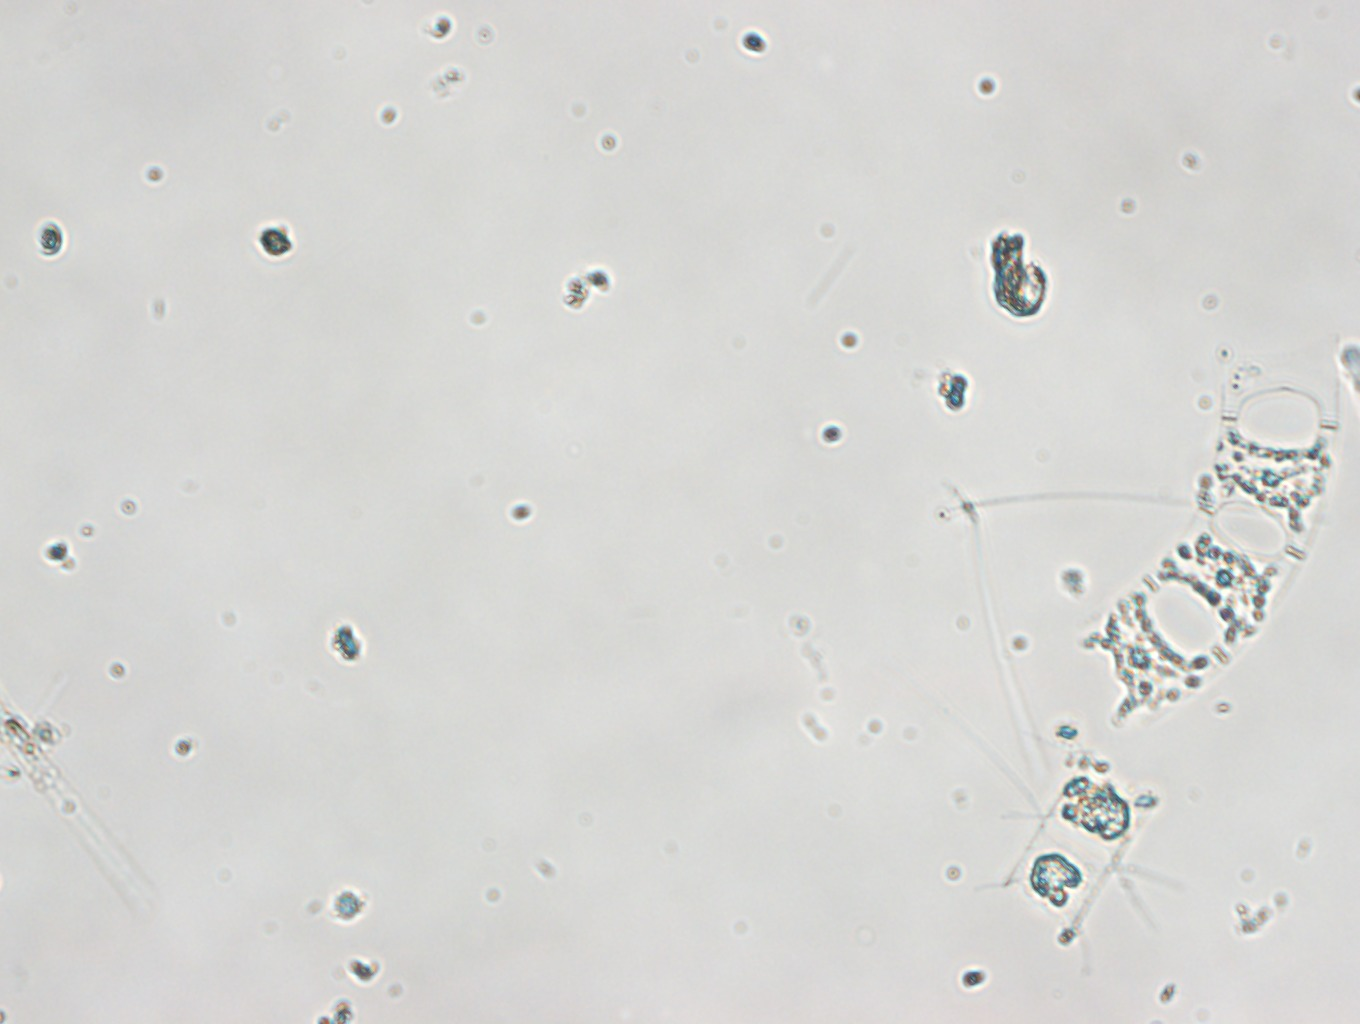chaetoceros: (969, 740, 1194, 957)
eucampia: (1077, 359, 1330, 713)
